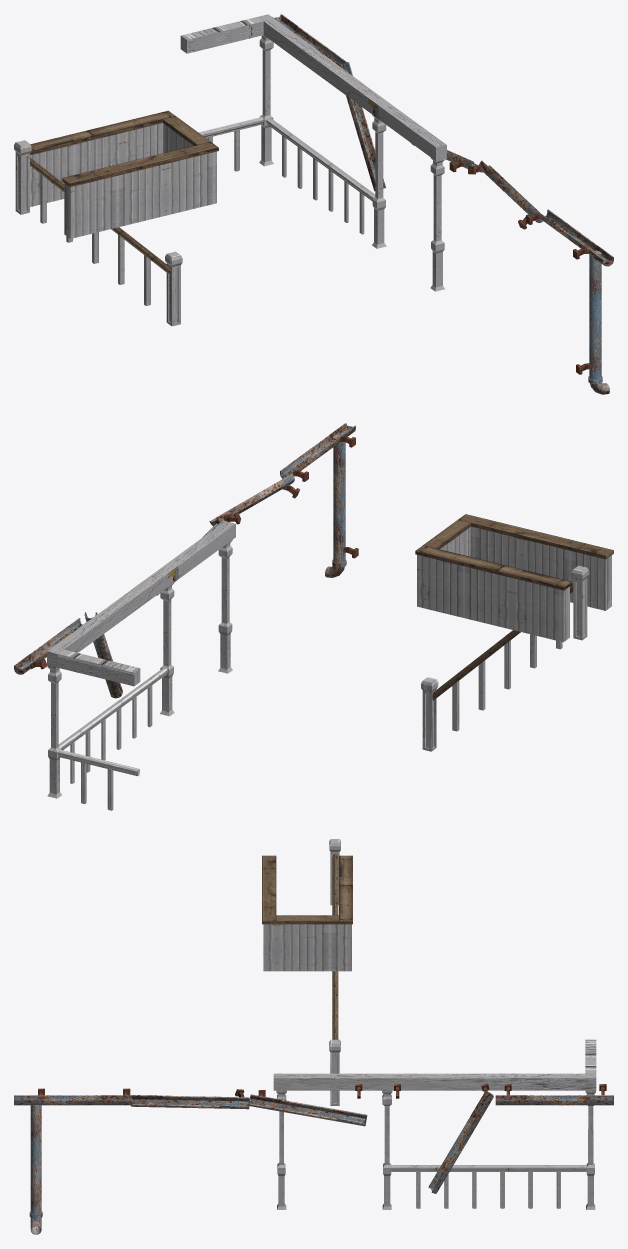
Rendered from House_shell_parts.glb.
3 renders of one model, top to bottom at view 1: azimuth 30°, elevation 25°; view 2: azimuth 150°, elevation 25°; view 3: azimuth 270°, elevation 25°, orthographic. The views are drawn at different scales.
Visible parts, largest first — view 1: Railing upstairs, Porch, Gutter, Stair railing; view 2: Railing upstairs, Porch, Gutter, Stair railing; view 3: Porch, Gutter, Railing upstairs, Stair railing.
Boxes of the visible parts, x1,y1,x2,y2 form: Railing upstairs: (30,110,218,238); Porch: (180,14,446,291); Gutter: (272,14,613,394); Stair railing: (14,140,182,326); Railing upstairs: (415,514,613,642); Porch: (47,521,235,810); Gutter: (14,423,358,698); Stair railing: (421,565,589,751); Porch: (273,1039,596,1209); Gutter: (14,1083,613,1234); Railing upstairs: (262,855,352,971); Stair railing: (329,839,340,1105).
Size of the model in its own units: 79.01 by 41.13 by 107.
Materials: 23 (23 with a texture image).
